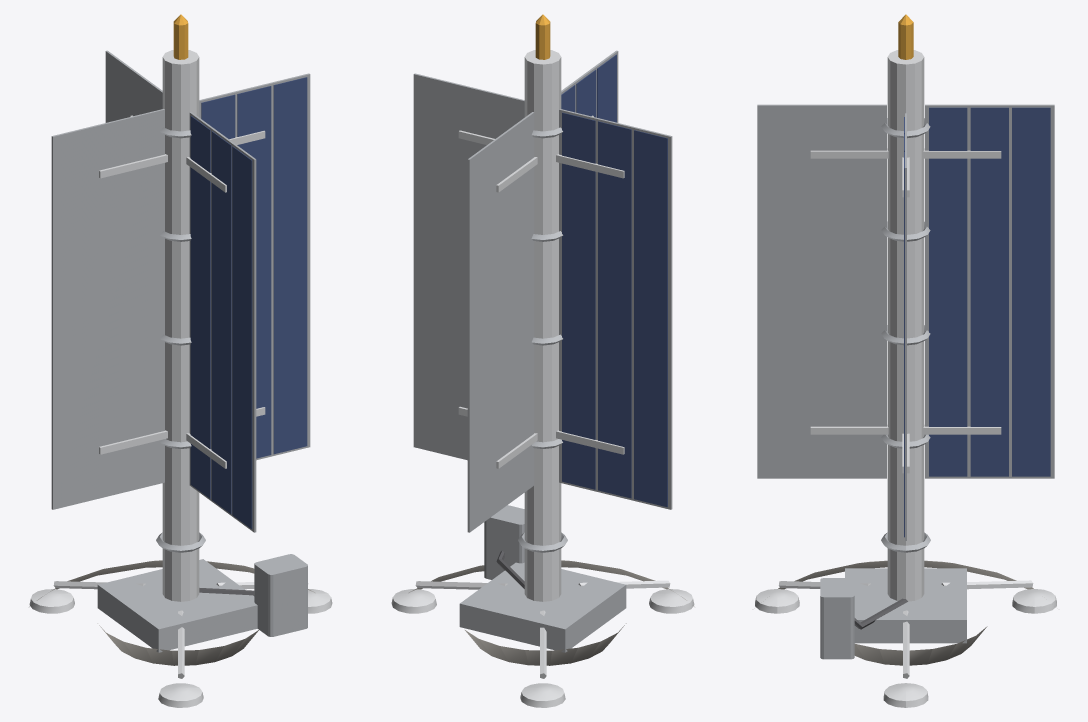
The model's file is vertical-solar-tower-c58cca7d.glb.
3 views of the same model, side by side, from view 1: azimuth 30°, elevation 25°; view 2: azimuth 150°, elevation 25°; view 3: azimuth 270°, elevation 25° (orthographic).
Parts seen in each view (by area): view 1: vertical-solar-tower; view 2: vertical-solar-tower; view 3: vertical-solar-tower.
Boxes of the visible parts, x1,y1,x2,y2 form: vertical-solar-tower: (29,14,332,707); vertical-solar-tower: (391,14,694,707); vertical-solar-tower: (755,14,1056,707).
Size of the model in its own units: 4.45 by 9.02 by 4.4.
